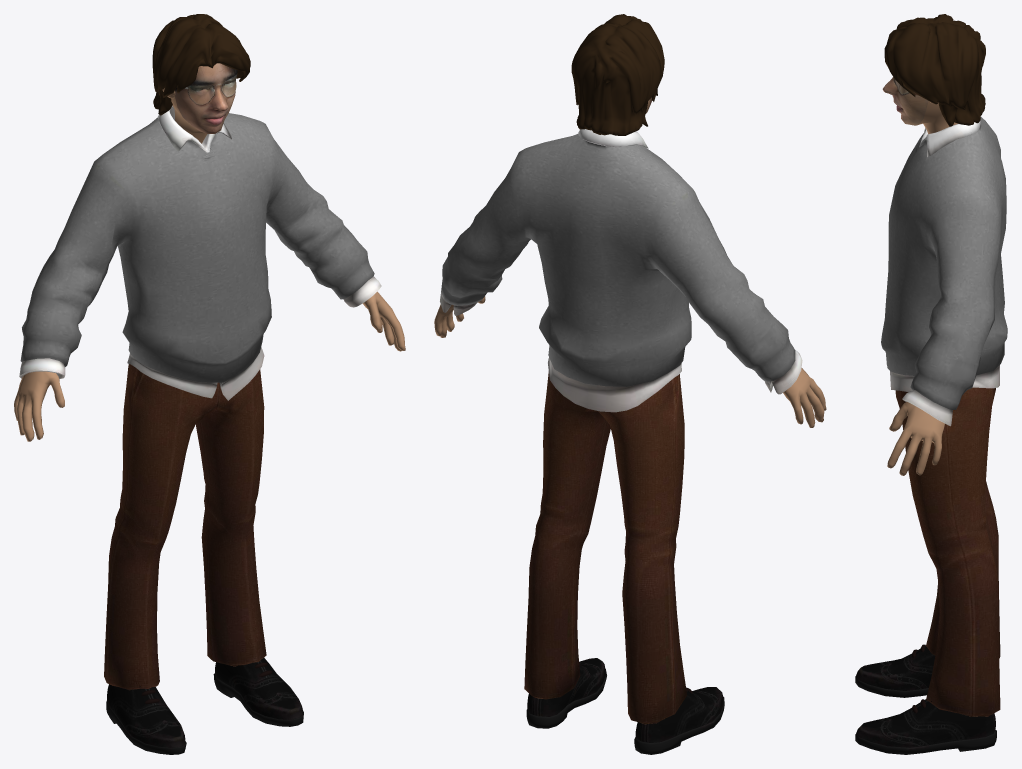
Rendered from Chula2.glb.
3 renders of one model, left to right at view 1: azimuth 30°, elevation 25°; view 2: azimuth 150°, elevation 25°; view 3: azimuth 270°, elevation 25°, orthographic.
Visible parts, largest first — view 1: Wolf3D_Outfit_Top, Wolf3D_Outfit_Bottom, Wolf3D_Outfit_Footwear, Wolf3D_Hair, Head, Wolf3D_Body; view 2: Wolf3D_Outfit_Top, Wolf3D_Outfit_Bottom, Wolf3D_Hair, Wolf3D_Outfit_Footwear, Wolf3D_Body; view 3: Wolf3D_Outfit_Top, Wolf3D_Outfit_Bottom, Wolf3D_Hair, Wolf3D_Outfit_Footwear, Wolf3D_Body, Head.
Boxes of the visible parts, x1,y1,x2,y2 form: Wolf3D_Outfit_Top: (19, 105, 381, 400); Wolf3D_Outfit_Bottom: (104, 364, 266, 690); Wolf3D_Outfit_Footwear: (106, 657, 303, 754); Wolf3D_Hair: (152, 14, 250, 115); Head: (162, 63, 237, 143); Wolf3D_Body: (14, 291, 405, 441); Wolf3D_Outfit_Top: (440, 129, 802, 412); Wolf3D_Outfit_Bottom: (524, 371, 686, 724); Wolf3D_Hair: (571, 14, 664, 135); Wolf3D_Outfit_Footwear: (526, 658, 724, 754); Wolf3D_Body: (434, 296, 826, 427); Wolf3D_Outfit_Top: (881, 117, 1007, 426); Wolf3D_Outfit_Bottom: (895, 387, 1000, 716); Wolf3D_Hair: (884, 14, 985, 126); Wolf3D_Outfit_Footwear: (855, 644, 996, 754); Wolf3D_Body: (887, 402, 944, 475); Head: (882, 77, 957, 134).
Size of the model in its own units: 1.06 by 1.87 by 0.3697.
Materials: 7 (6 with a texture image).
